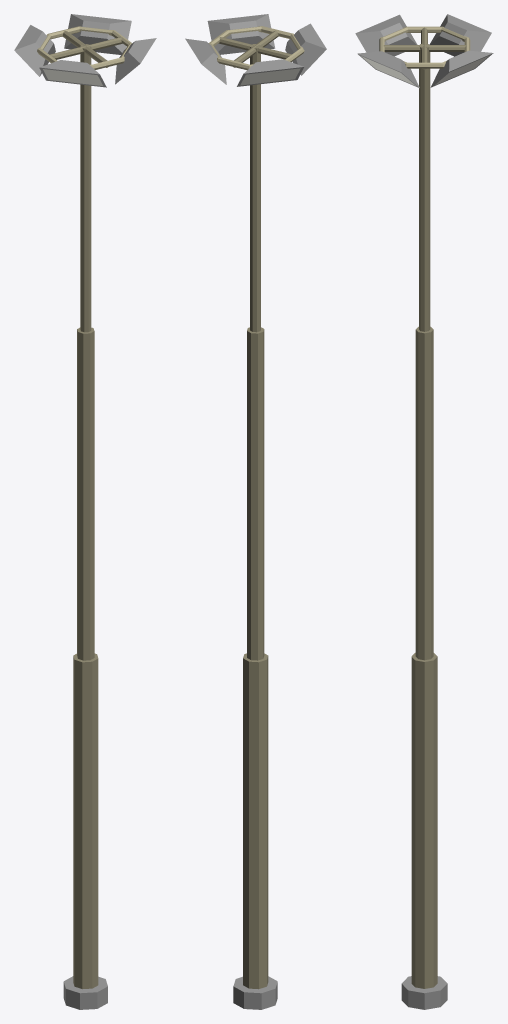
File: spotlight.fbx
The picture shows the model from 3 angles, left to right: view 1: azimuth 30°, elevation 25°; view 2: azimuth 150°, elevation 25°; view 3: azimuth 270°, elevation 25°; orthographic projection.
Parts seen in each view (by area): view 1: Cylinder_1; view 2: Cylinder_1; view 3: Cylinder_1.
Boxes of the visible parts, x1,y1,x2,y2 form: Cylinder_1: (14,14,156,1009); Cylinder_1: (185,14,326,1009); Cylinder_1: (355,14,493,1009).
Size of the model in its own units: 165 by 1265 by 166.
